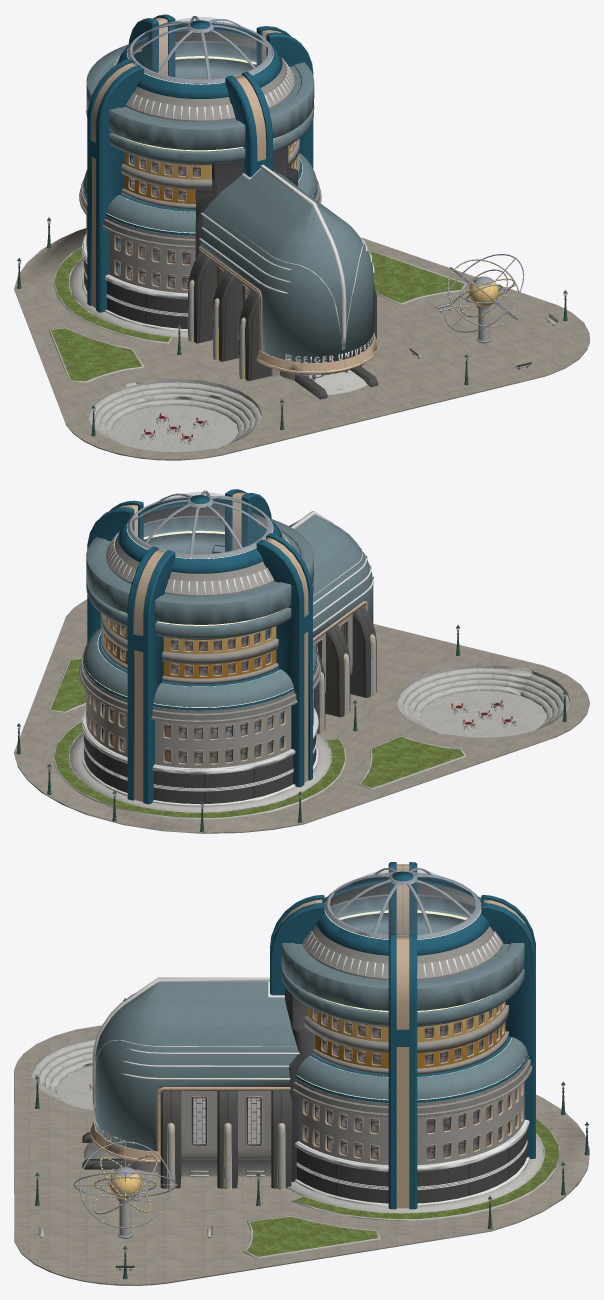
The model's file is cargo_retro_university.glb.
3 views of the same model, one above another, from view 1: azimuth 30°, elevation 25°; view 2: azimuth 150°, elevation 25°; view 3: azimuth 270°, elevation 25° (orthographic). The views are drawn at different scales.
Parts seen in each view (by area): view 1: KB3D_ATP_BldgMdUniversity_A_Base, KB3D_ATP_BldgMdUniversity_A_BuildingB, KB3D_ATP_BldgMdUniversity_A_BuildingA, KB3D_ATP_BldgMdUniversity_A_BuildingB_transparent, KB3D_ATP_PropSculpture_A_Main; view 2: KB3D_ATP_BldgMdUniversity_A_BuildingB, KB3D_ATP_BldgMdUniversity_A_Base, KB3D_ATP_BldgMdUniversity_A_BuildingA, KB3D_ATP_BldgMdUniversity_A_BuildingB_transparent; view 3: KB3D_ATP_BldgMdUniversity_A_BuildingB, KB3D_ATP_BldgMdUniversity_A_Base, KB3D_ATP_BldgMdUniversity_A_BuildingA, KB3D_ATP_BldgMdUniversity_A_BuildingB_transparent, KB3D_ATP_PropSculpture_A_Main.
Boxes of the visible parts, box(x1,y1,x2,y2) form: KB3D_ATP_BldgMdUniversity_A_Base: box(14, 228, 589, 460); KB3D_ATP_BldgMdUniversity_A_BuildingB: box(69, 14, 321, 338); KB3D_ATP_BldgMdUniversity_A_BuildingA: box(188, 146, 378, 399); KB3D_ATP_BldgMdUniversity_A_BuildingB_transparent: box(117, 17, 290, 287); KB3D_ATP_PropSculpture_A_Main: box(443, 254, 524, 343); KB3D_ATP_BldgMdUniversity_A_BuildingB: box(69, 489, 330, 812); KB3D_ATP_BldgMdUniversity_A_Base: box(14, 599, 589, 833); KB3D_ATP_BldgMdUniversity_A_BuildingA: box(212, 511, 378, 733); KB3D_ATP_BldgMdUniversity_A_BuildingB_transparent: box(103, 492, 282, 762); KB3D_ATP_BldgMdUniversity_A_BuildingB: box(270, 862, 543, 1213); KB3D_ATP_BldgMdUniversity_A_Base: box(14, 1025, 589, 1285); KB3D_ATP_BldgMdUniversity_A_BuildingA: box(82, 977, 316, 1190); KB3D_ATP_BldgMdUniversity_A_BuildingB_transparent: box(306, 867, 508, 1158); KB3D_ATP_PropSculpture_A_Main: box(73, 1141, 177, 1238).
Bounding box in the file's own units: 44.01 × 23.27 × 41.02.
36 materials, 36 textured.
